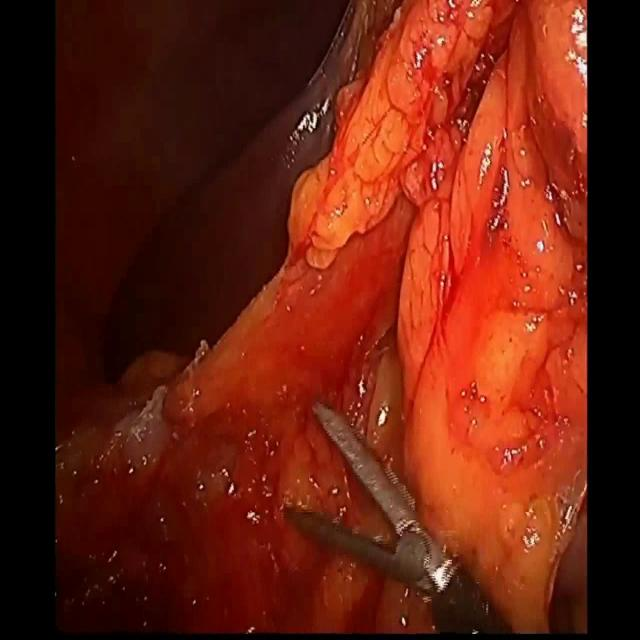surgical-area: (56, 0, 587, 634)
surgical-tool: (285, 399, 512, 634)
